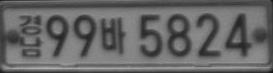2: (195, 12, 221, 56)
4: (225, 11, 252, 57)
5: (139, 13, 163, 57)
8: (166, 12, 192, 57)
9: (44, 13, 69, 57), (72, 13, 97, 56)
경남_V: (18, 13, 43, 58)
바: (101, 16, 127, 54)
